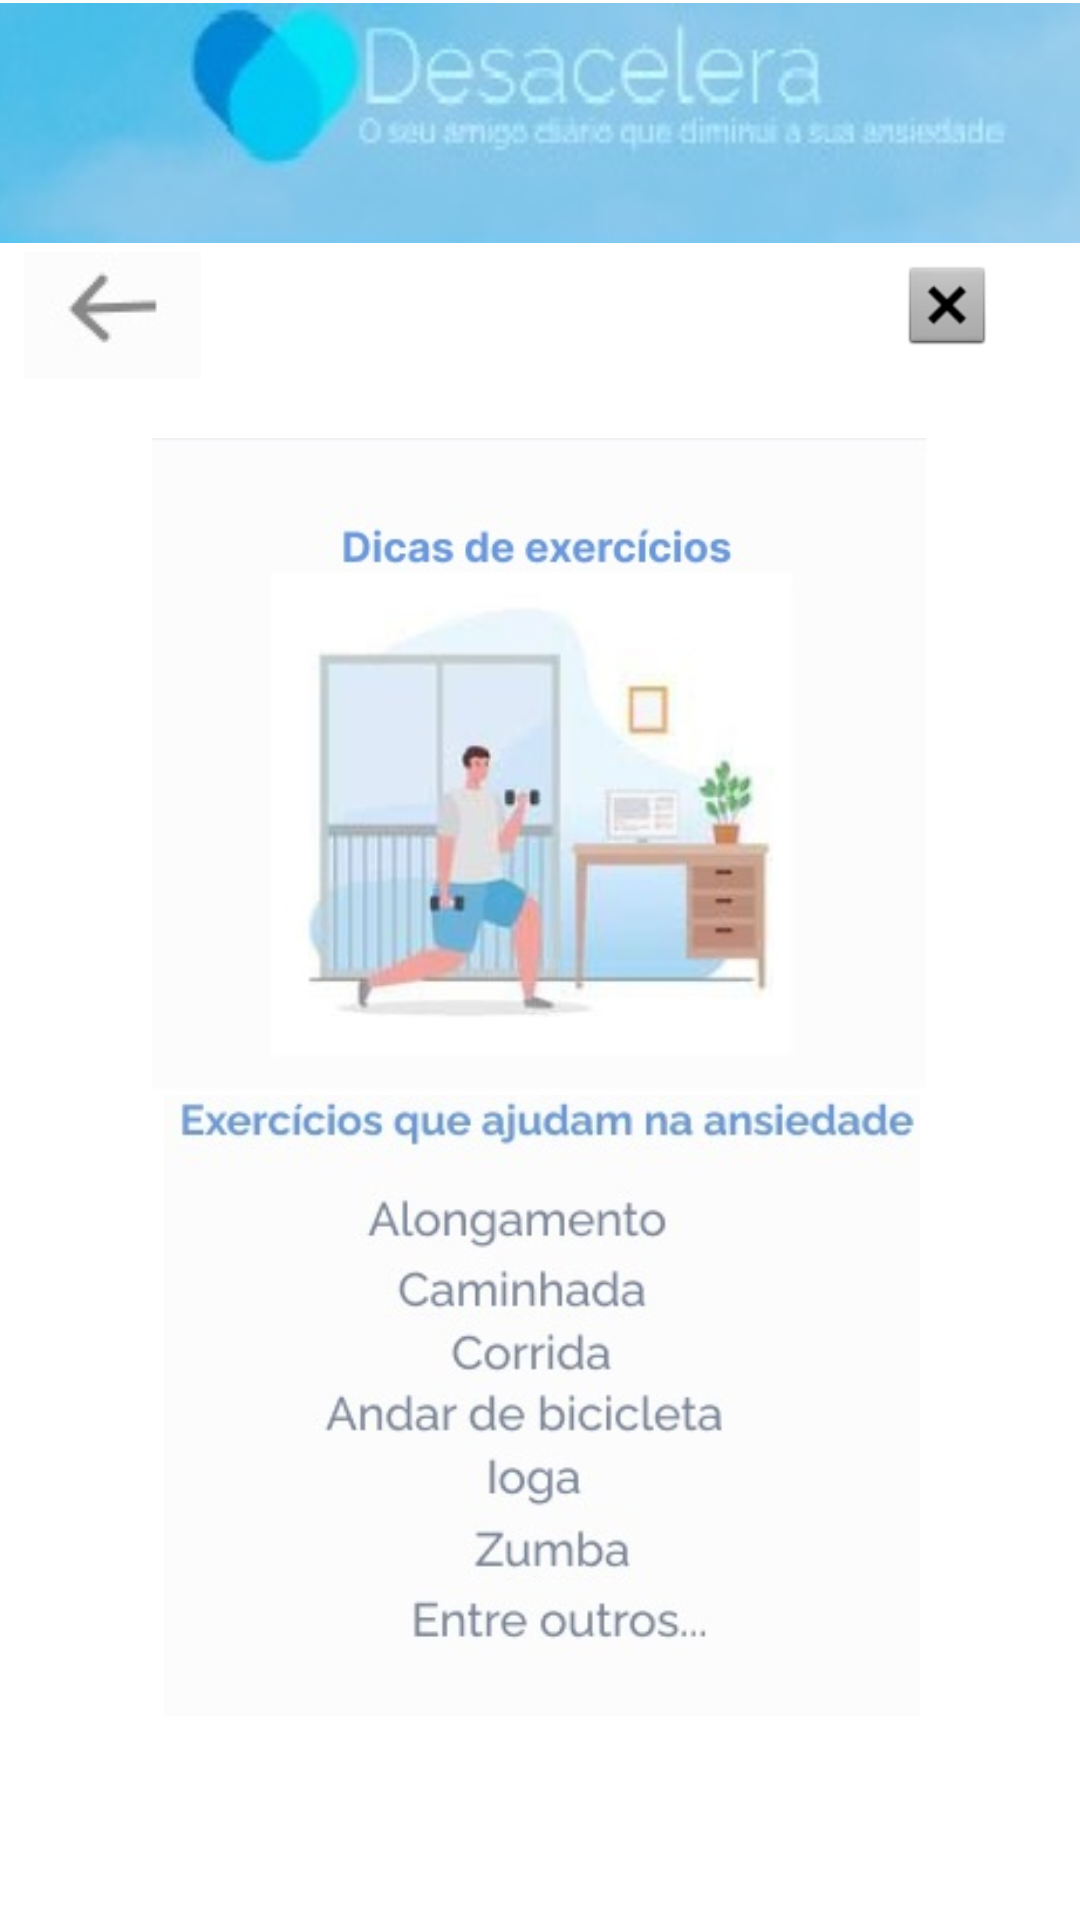

Icon click points for this 1080*1920 phone screenshot, format point (x, y):
fig voltar: point (113, 308)
